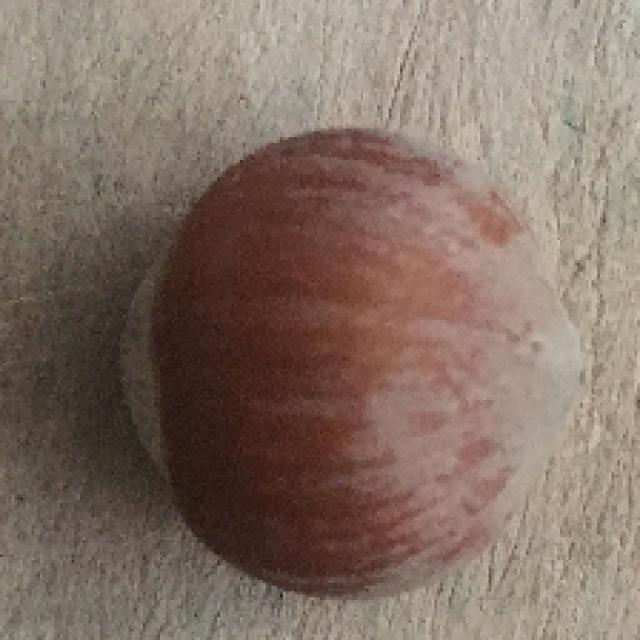QualityHazelnut: (117, 124, 584, 602)
